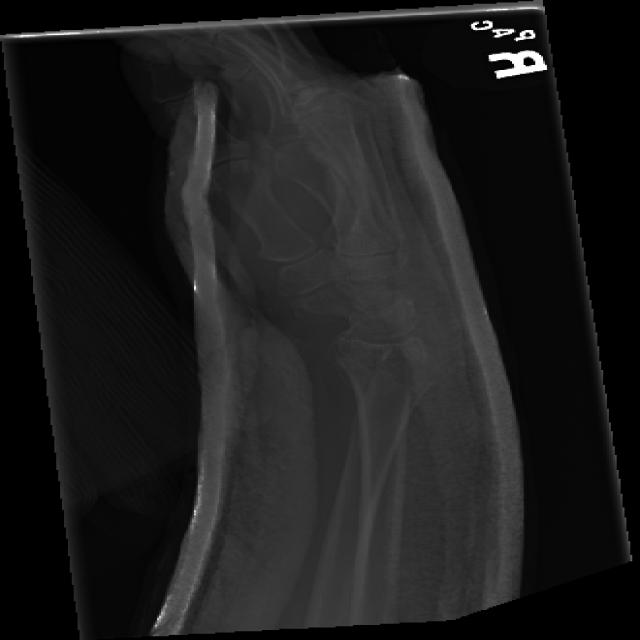fingers positive: (322, 310, 460, 425)
